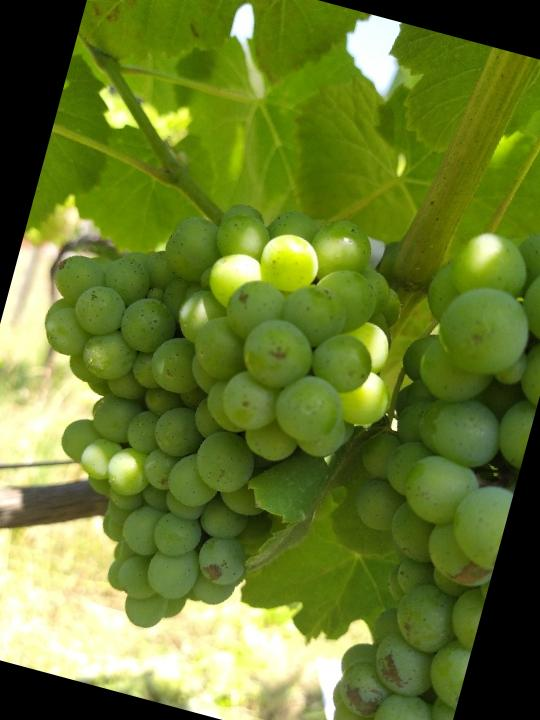grape: (0, 152, 432, 675)
